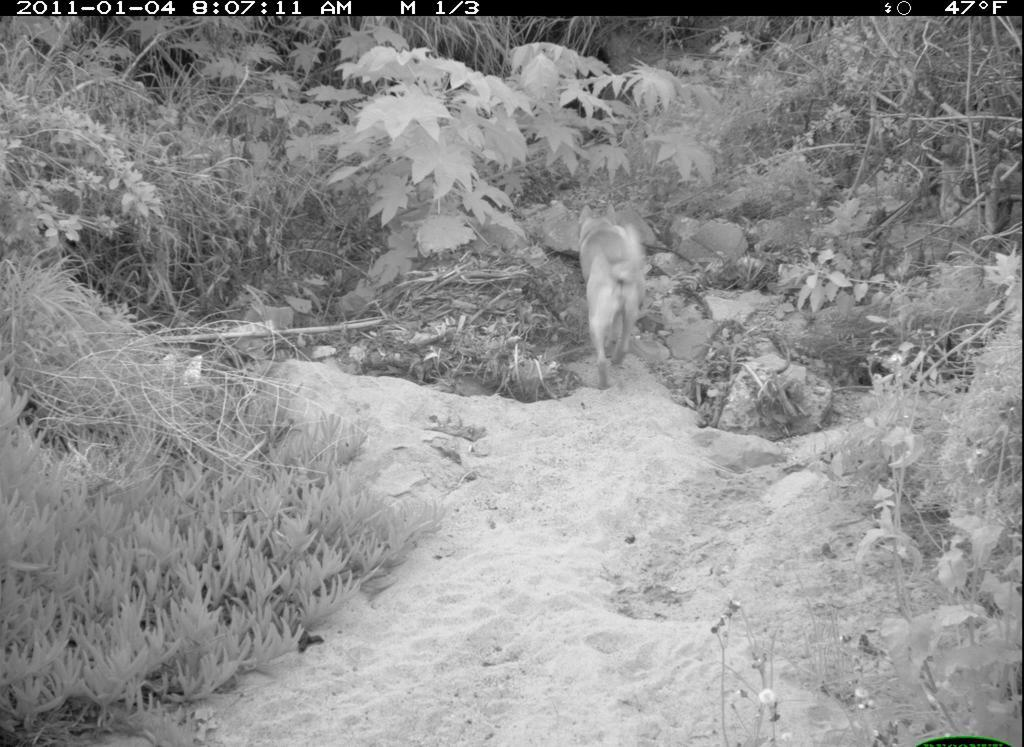dog: (561, 201, 644, 392)
